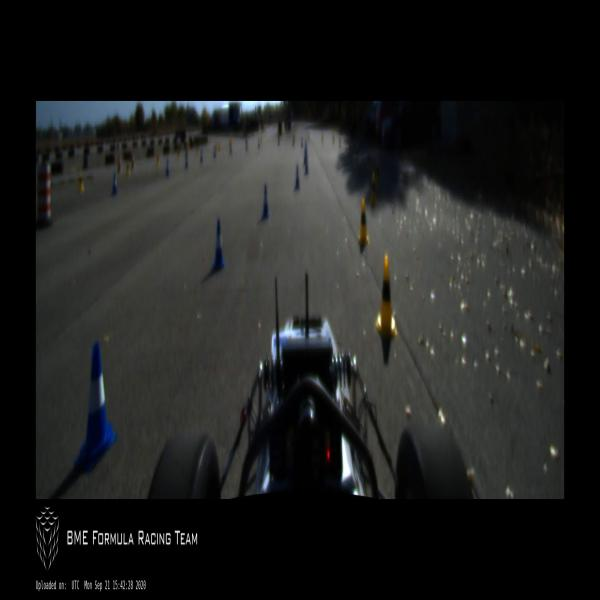blue_cone: (74, 342, 117, 473), (213, 219, 224, 270), (262, 185, 269, 219), (294, 165, 300, 190), (112, 172, 118, 195), (166, 159, 170, 177)
yellow_cone: (376, 257, 398, 337), (357, 198, 369, 246), (370, 174, 377, 205), (78, 169, 84, 194)
